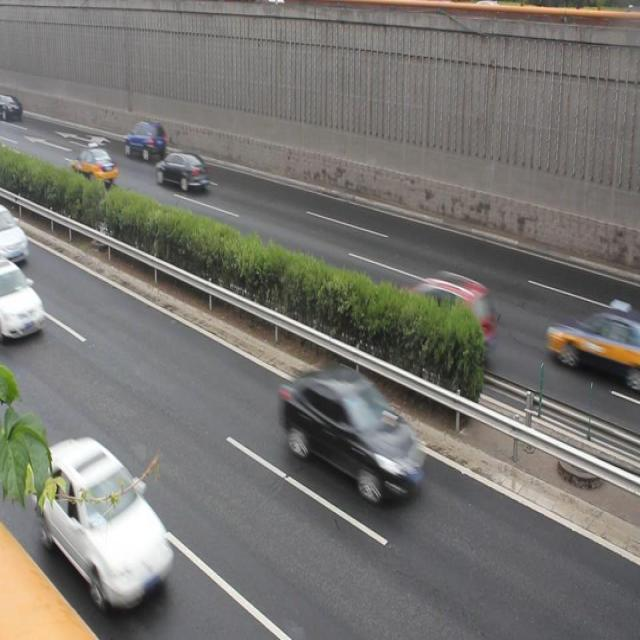car: (36, 438, 173, 598), (278, 367, 424, 499), (382, 273, 498, 358), (548, 304, 640, 386), (1, 260, 44, 344), (155, 150, 210, 191), (69, 146, 117, 188), (121, 119, 166, 162), (1, 207, 32, 265)
